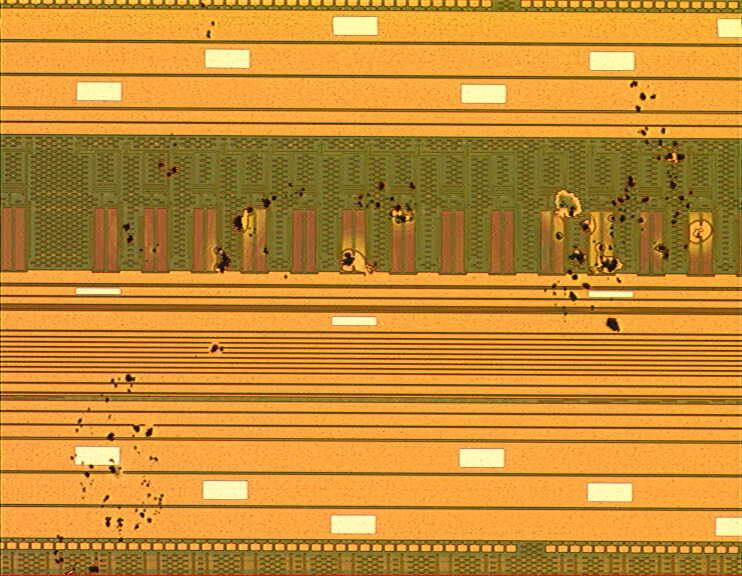PO CONTAMINATION: (49, 1, 717, 576)
